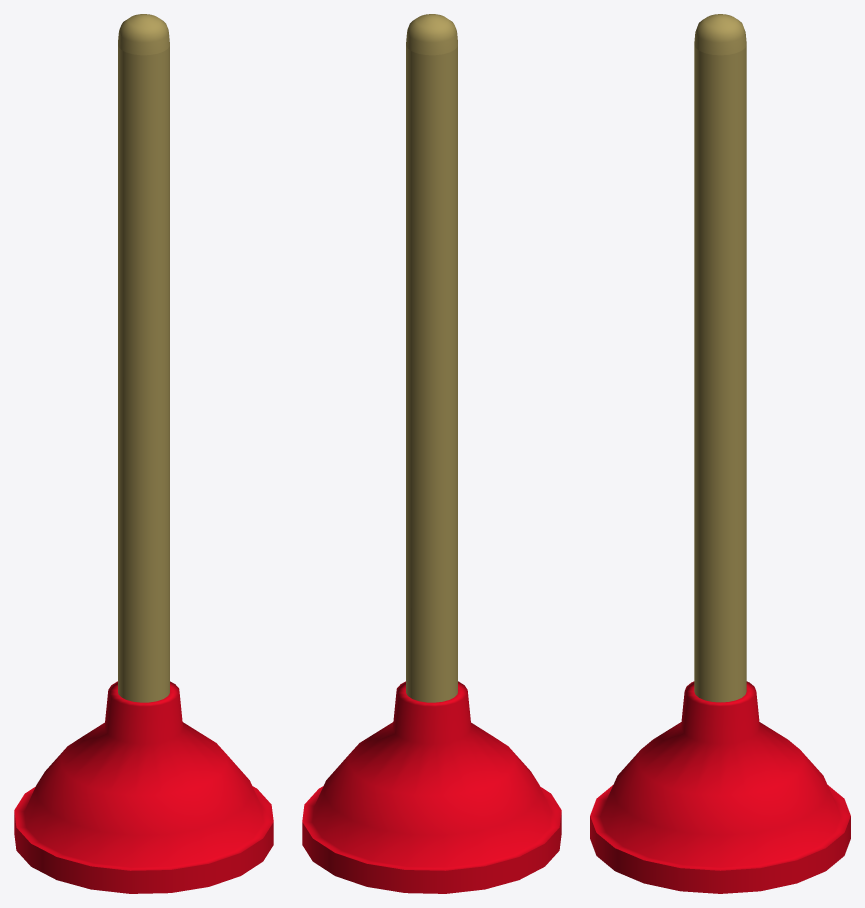
The model's file is Desentupidor.fbx.
3 renders of one model, left to right at view 1: azimuth 30°, elevation 25°; view 2: azimuth 150°, elevation 25°; view 3: azimuth 270°, elevation 25°, orthographic.
Visible parts, largest first — view 1: Desentupidor; view 2: Desentupidor; view 3: Desentupidor.
Boxes of the visible parts, box(x1,y1,x2,y2) form: Desentupidor: box(14, 14, 273, 893); Desentupidor: box(302, 14, 561, 893); Desentupidor: box(590, 14, 850, 893).
Bounding box in the file's own units: 20.19 × 70.24 × 20.19.
